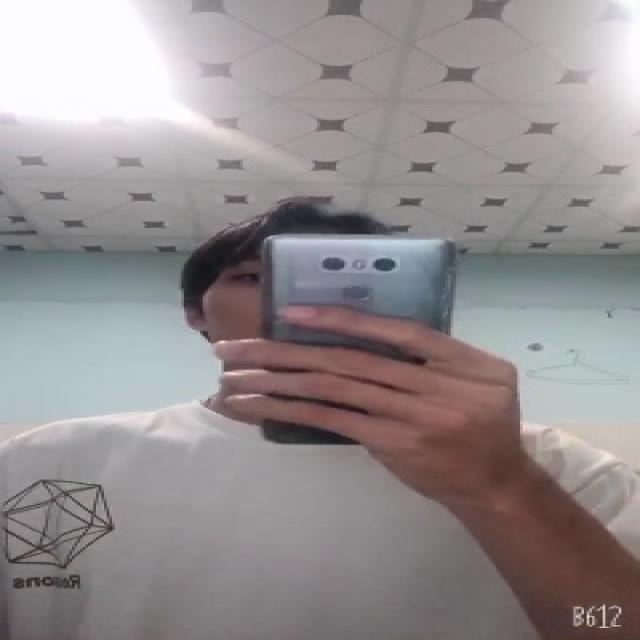Phone: (258, 233, 460, 449)
